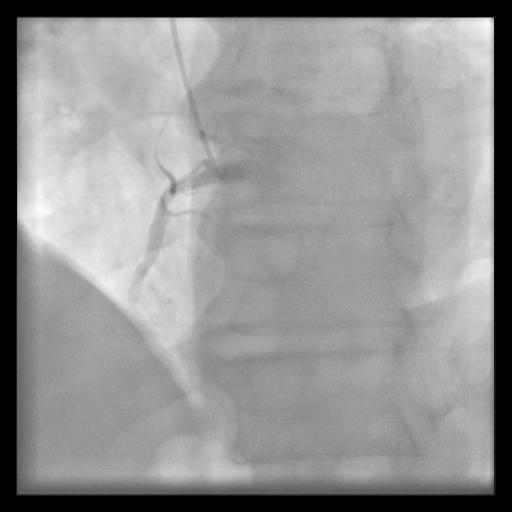Stenosis: (159, 179, 189, 201)
